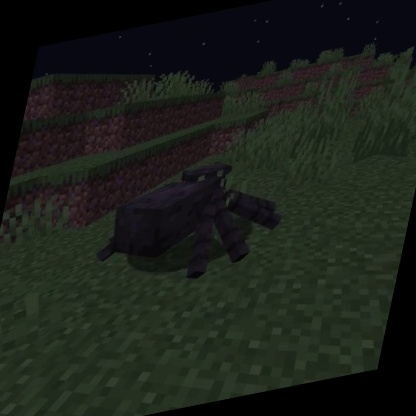spider: (82, 141, 300, 304)
